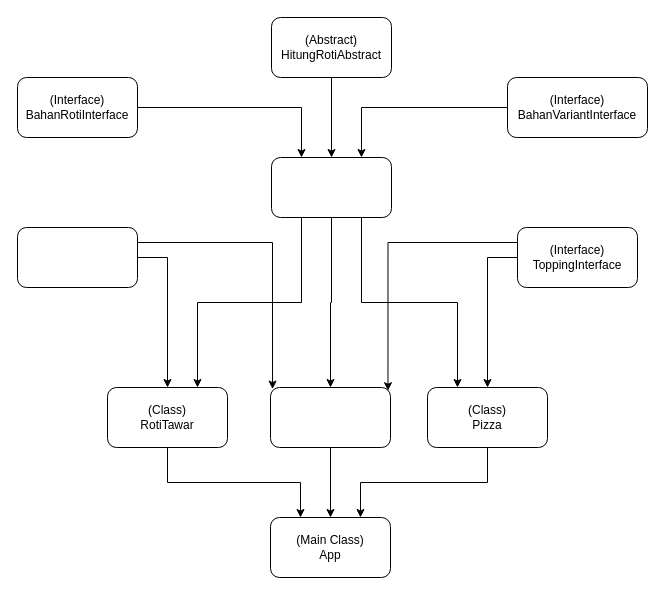
The diagram is 665 pixels wide and 595 high, and some of its shapes have lost their labels. Each missing label, with the centre of its shape:
"(Class) Roti" goes at pixel 331 187.
"(Class) RotiManis" goes at pixel 330 417.
"(Interface) FillingInterface" goes at pixel 77 257.
